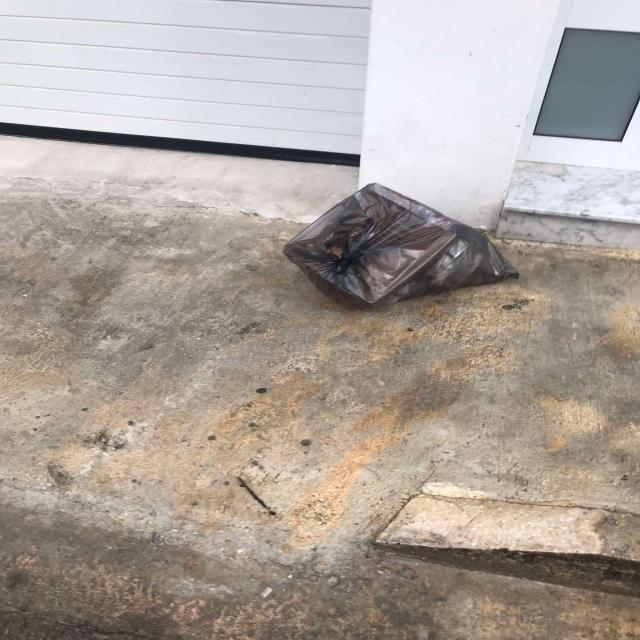Mixed Waste -Black Bag-: (284, 183, 525, 312)
